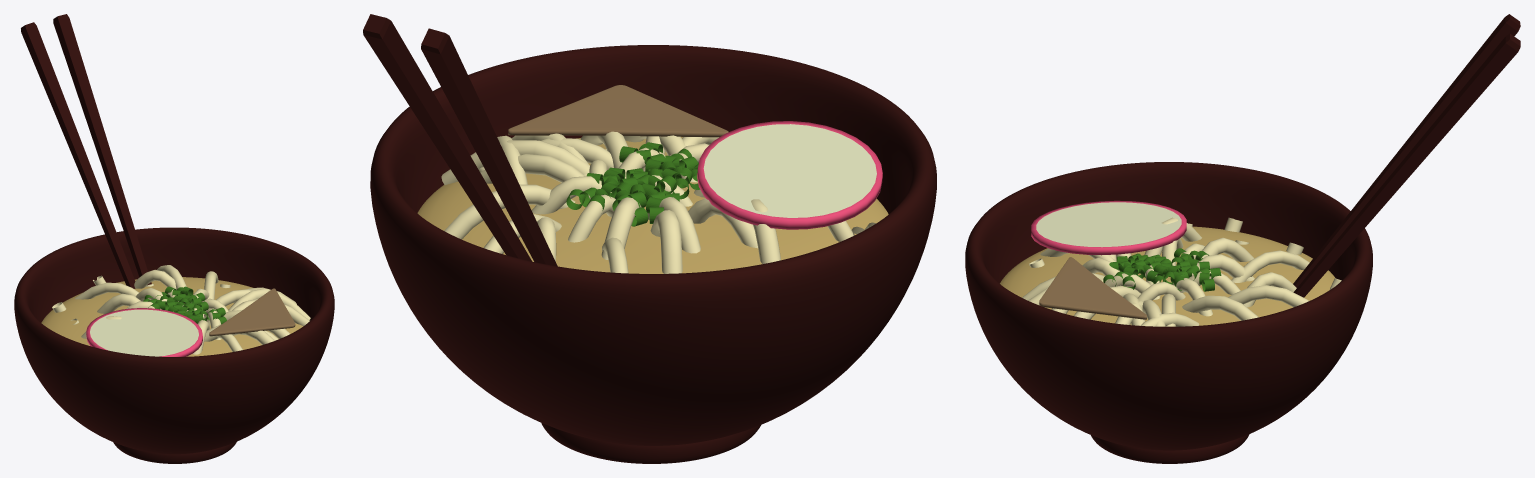
The model's file is Udon.glb.
The picture shows the model from 3 angles, left to right: view 1: azimuth 30°, elevation 25°; view 2: azimuth 150°, elevation 25°; view 3: azimuth 270°, elevation 25°; orthographic projection. The views are drawn at different scales.
Visible parts, largest first — view 1: Noodle; view 2: Noodle; view 3: Noodle.
Part boxes in pixels (x1,y1,x2,y2): Noodle: [14, 14, 334, 463]; Noodle: [363, 14, 936, 463]; Noodle: [965, 14, 1520, 463].
Bounding box in the file's own units: 1.96 × 2.17 × 2.67.
